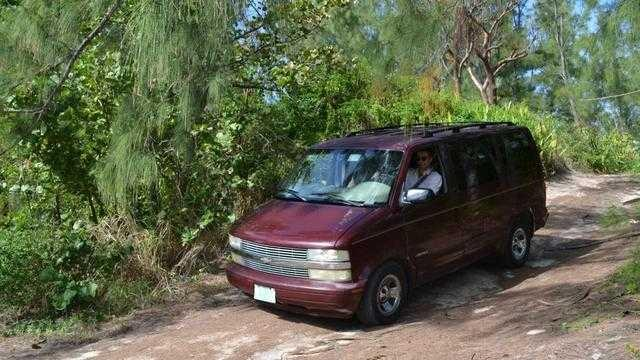car: (223, 121, 557, 327)
